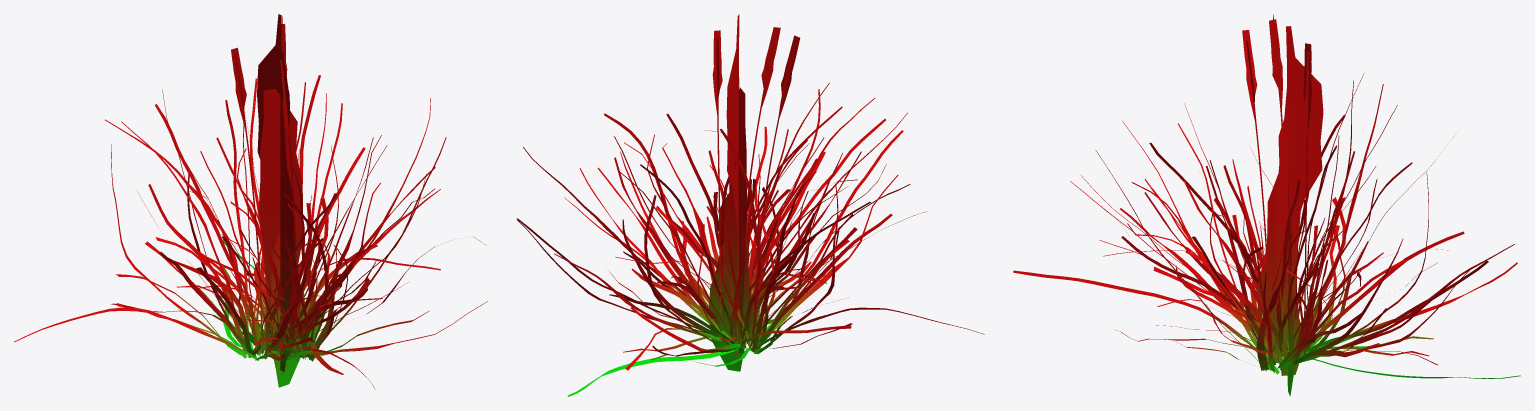
The model's file is Var2_LOD0.fbx.
3 renders of one model, left to right at view 1: azimuth 30°, elevation 25°; view 2: azimuth 150°, elevation 25°; view 3: azimuth 270°, elevation 25°, orthographic. The views are drawn at different scales.
Visible parts, largest first — view 1: _uy9b_Var2_LOD0; view 2: _uy9b_Var2_LOD0; view 3: _uy9b_Var2_LOD0.
Boxes of the visible parts, x1,y1,x2,y2 form: _uy9b_Var2_LOD0: (14, 14, 487, 389); _uy9b_Var2_LOD0: (517, 14, 984, 396); _uy9b_Var2_LOD0: (1013, 14, 1520, 396).
Bounding box in the file's own units: 49.79 × 39.41 × 49.49.
